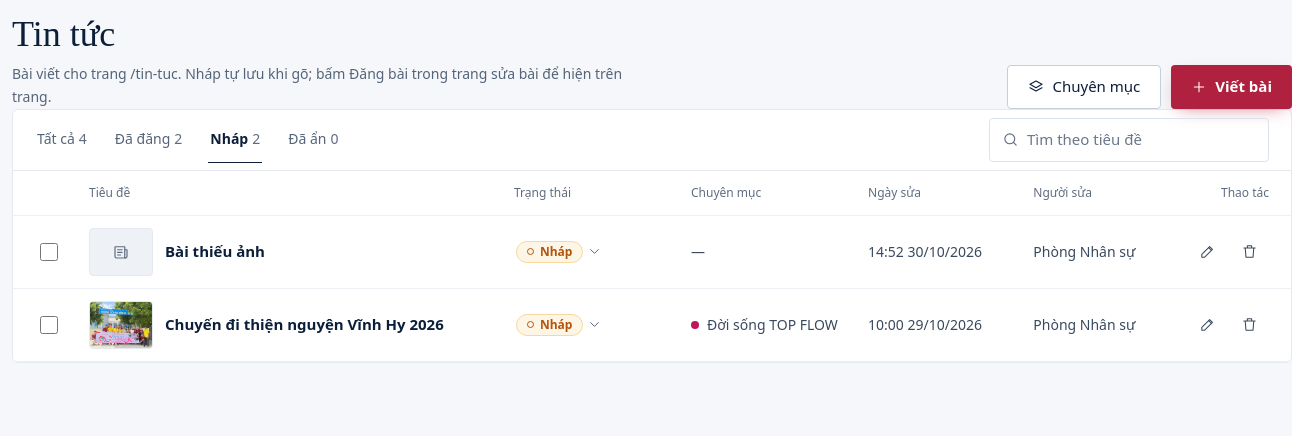
Test: HR news list › should say what a post lacks when publishing it from the list, with a way to the editor
The width and height of the screenshot is (1292, 436).
Click the button with aria-label "Trạng thái bài Bài thiếu ảnh: Nháp" at [559, 252], box [514,234,604,270]
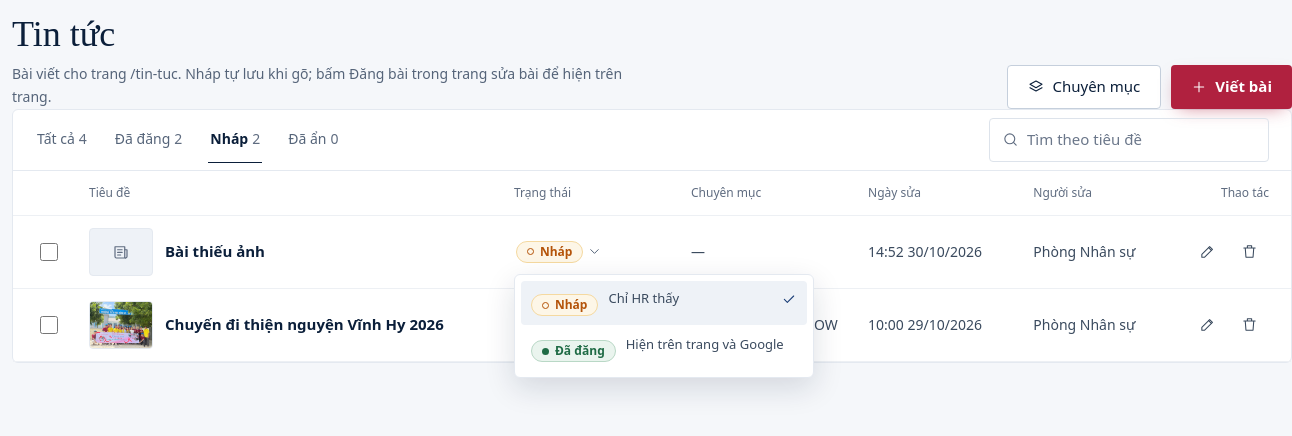
Click the menu item "Đã đăng Hiện trên trang và Google" at [664, 348], box [521,326,807,370]
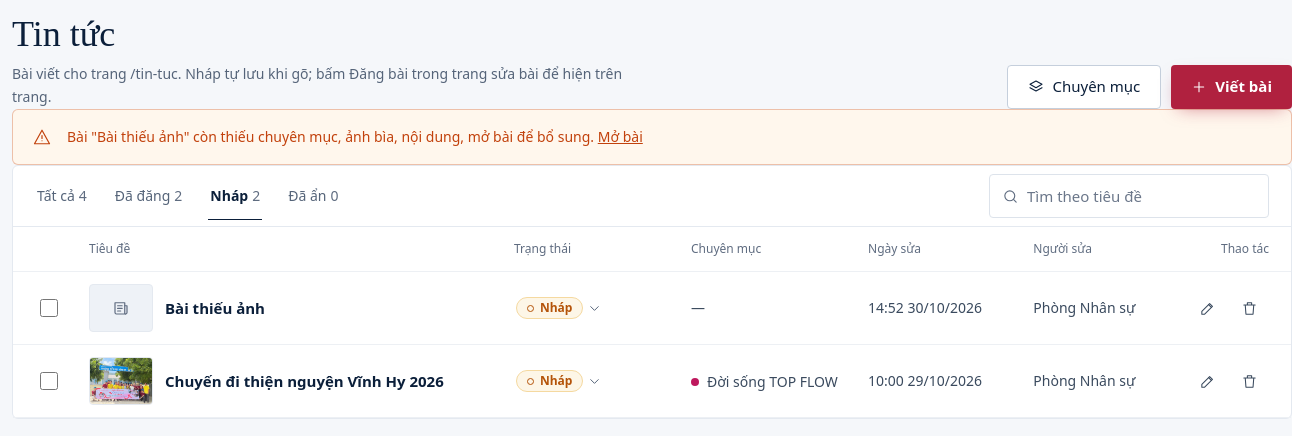
Result: the text "Bài \"Bài thiếu ảnh\" còn thiếu" shows "chuyên mục, ảnh bìa, nội dung, mở bài để bổ sung" at [67,126,594,146]
